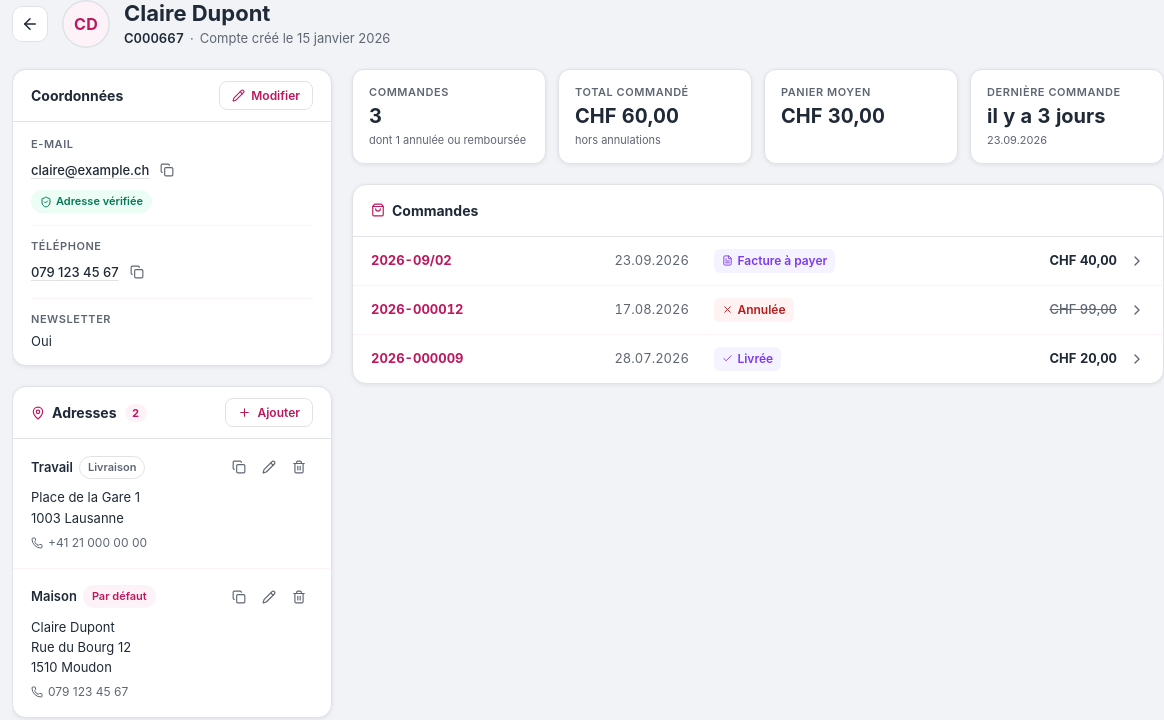
CustomerDetail — fiche client › le crayon d'une adresse ouvre sa modification
Click the button named "Modifier l'adresse Maison" at [269, 597], box x1=255 y1=583 x2=283 y2=611
(page scrolled)
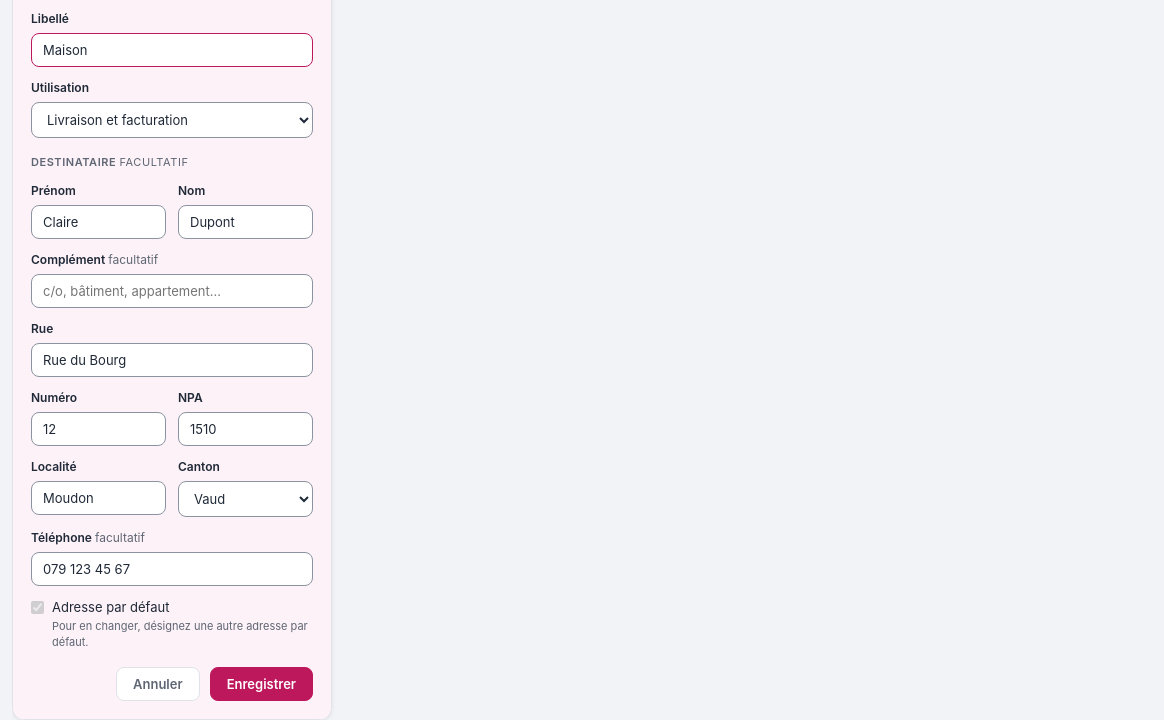
Expected: the field labelled "Rue" holds "Rue du Bourg", x1=31 y1=343 x2=313 y2=377
